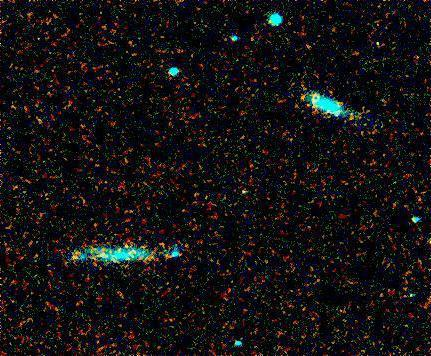star: (63, 240, 93, 270)
